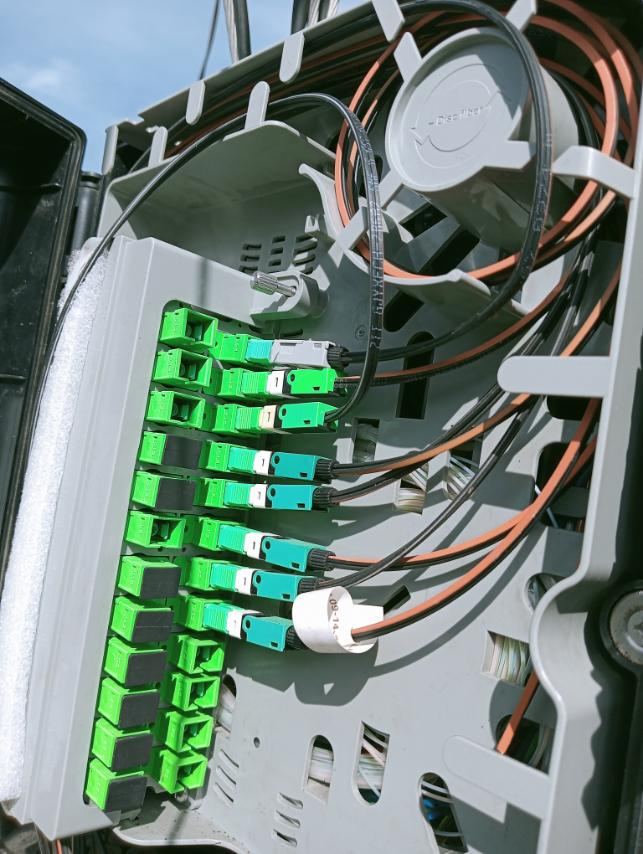no dust cap: (167, 393, 204, 431), (177, 350, 213, 389), (184, 310, 218, 348), (146, 519, 186, 550), (172, 760, 206, 793), (180, 720, 213, 753), (188, 679, 219, 711), (195, 643, 226, 674)
occupied: (215, 523, 351, 579), (202, 599, 322, 656), (209, 563, 326, 607), (229, 444, 344, 487), (222, 480, 345, 516), (245, 337, 355, 370), (241, 368, 350, 399), (235, 405, 343, 435)
vacant: (112, 733, 153, 775), (118, 691, 162, 729), (124, 651, 166, 688), (154, 477, 197, 513), (104, 777, 148, 812), (130, 609, 174, 644), (161, 435, 204, 470), (139, 568, 182, 602)
